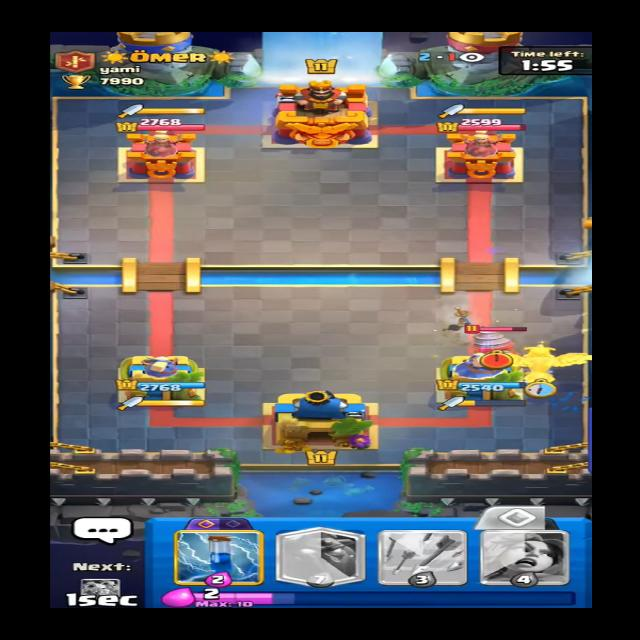Goblindrill: (461, 306, 530, 366)
